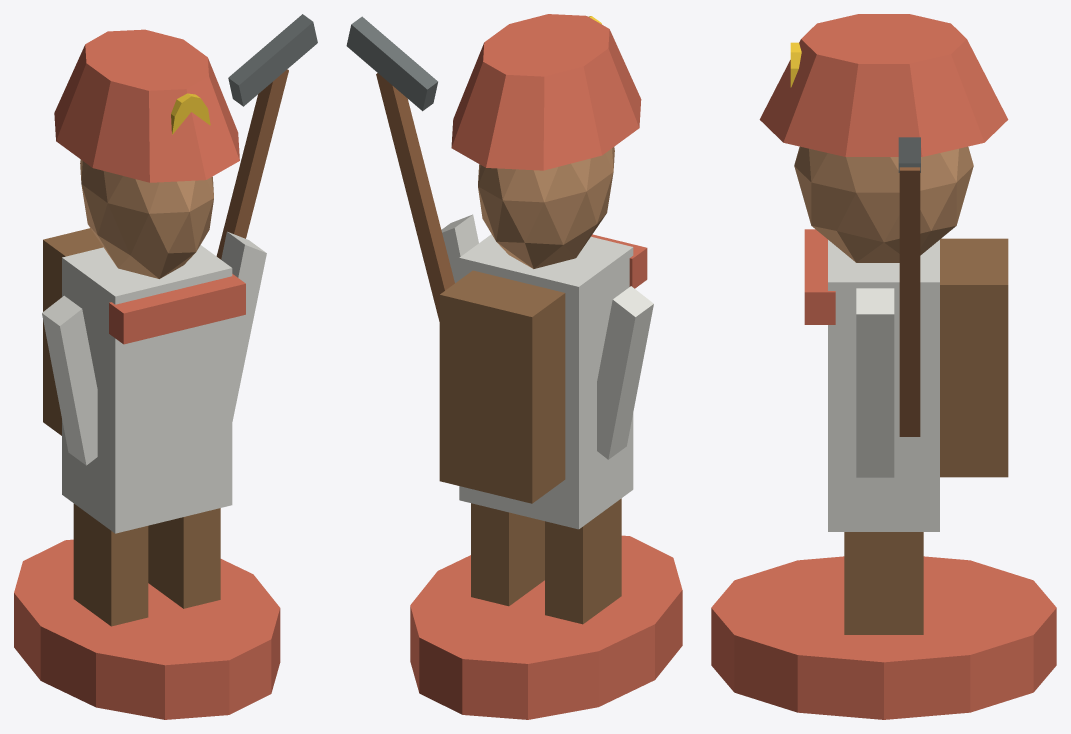
Rendered from peao_garimpeiro_urucum.glb.
3 views of the same model, side by side, from view 1: azimuth 30°, elevation 25°; view 2: azimuth 150°, elevation 25°; view 3: azimuth 270°, elevation 25° (orthographic). The views are drawn at different scales.
Visible parts, largest first — view 1: peao_garimpeiro_urucum; view 2: peao_garimpeiro_urucum; view 3: peao_garimpeiro_urucum.
Boxes of the visible parts, left/top/right/bottom form: peao_garimpeiro_urucum: left=14, top=14, right=317, bottom=719; peao_garimpeiro_urucum: left=346, top=14, right=682, bottom=719; peao_garimpeiro_urucum: left=711, top=14, right=1056, bottom=719.
Bounding box in the file's own units: 2 × 4 × 2.
